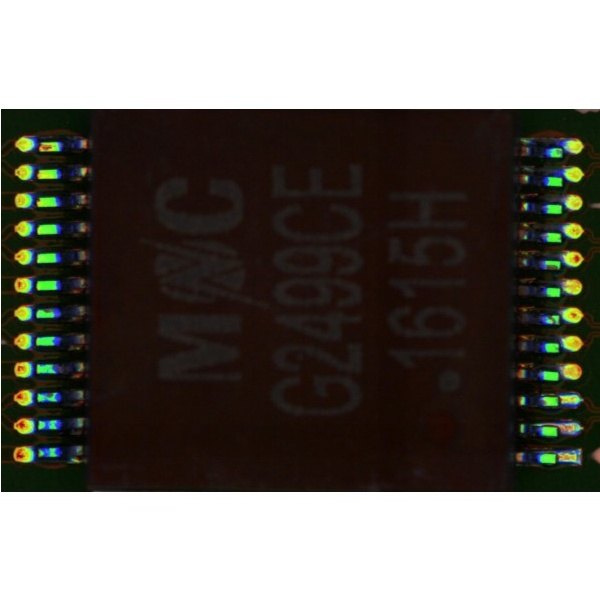Bad_podu: (549, 453, 564, 460), (552, 396, 566, 403)
Bad_qiaojiao: (532, 421, 558, 425)
